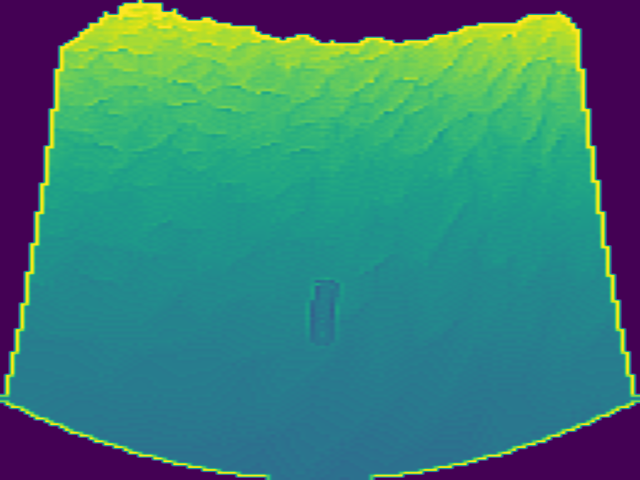car_0198: (307, 278, 339, 346)
